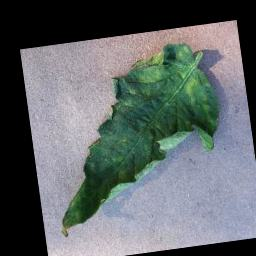Leaf_Mold: (38, 40, 232, 229)
